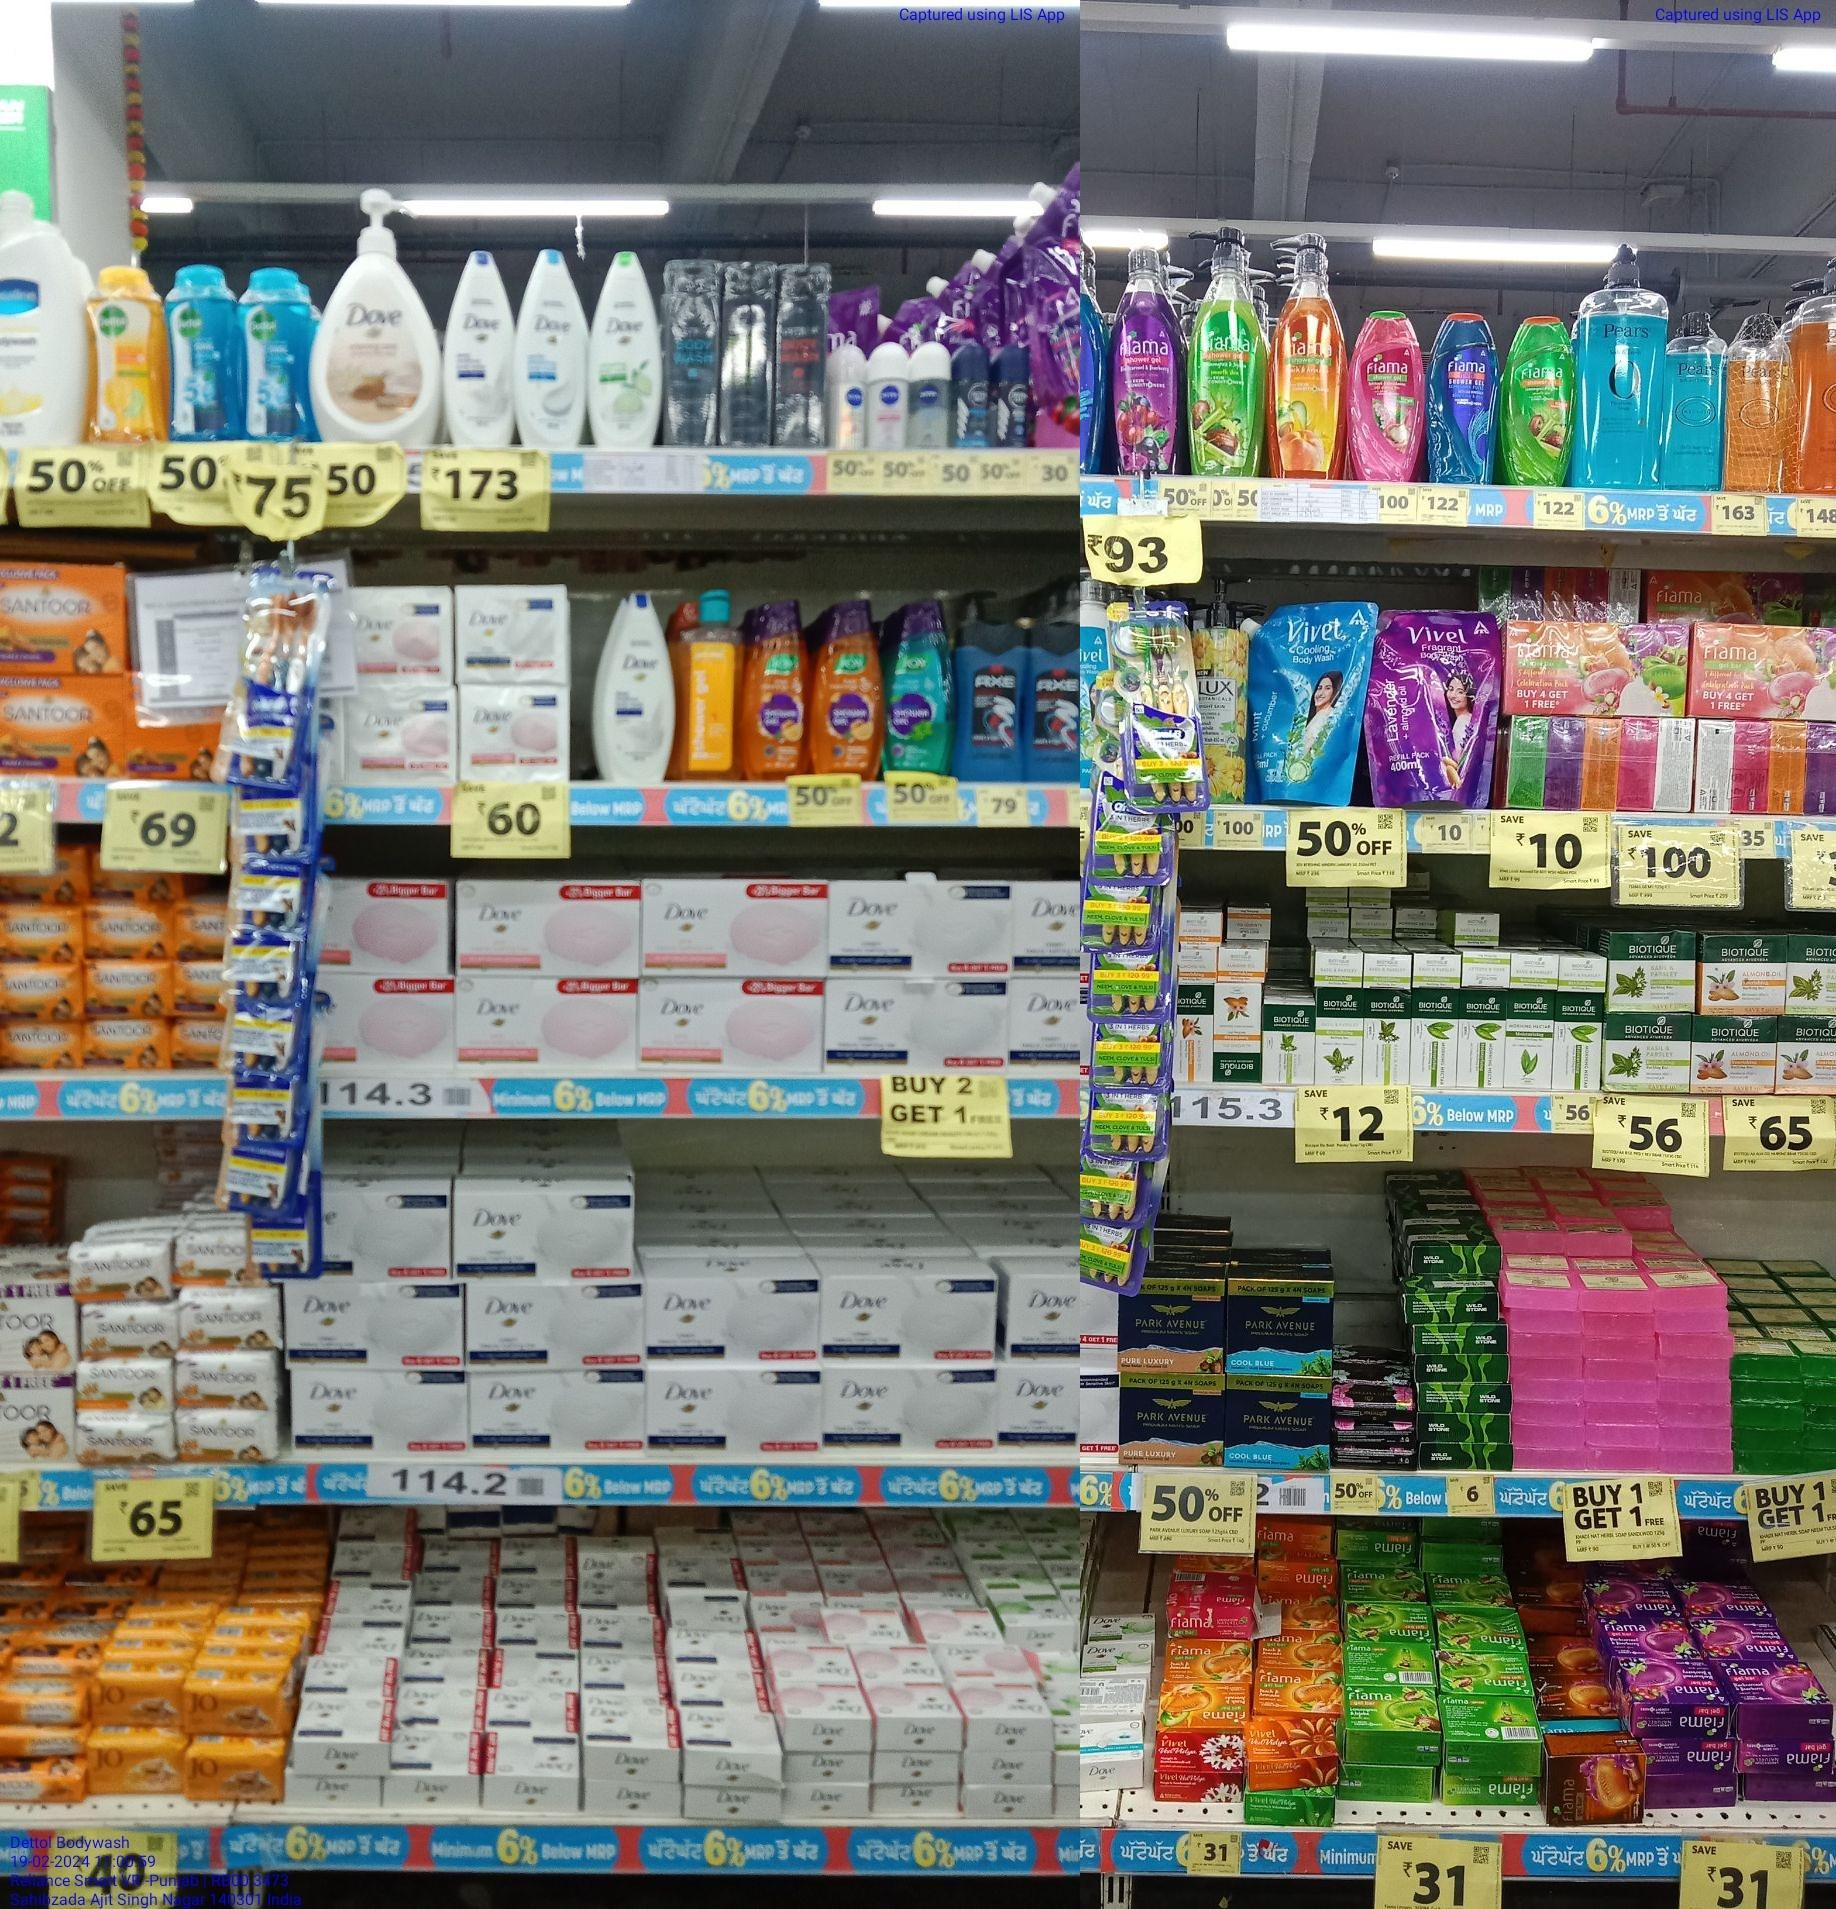Dettol_Bodywash_Cool: (165, 261, 235, 441), (239, 262, 305, 440)
Dettol_Bodywash_Refresh: (80, 262, 167, 443)
Dove_Deep_Moisture_Body_Wash_250ML: (590, 588, 672, 787), (443, 249, 517, 448)
Dove_Gentle_Exfoliating_Body_Wash_250ML: (520, 242, 586, 447)
Dove_Refreshing_Body_Wash_250ML: (588, 245, 658, 447)
Fiama_Shower_Gel_Lemongrass_and_Jojoba_250ML: (1500, 315, 1575, 487)
Fiama_Shower_Gel_Patchouli_and_Macadamia_250ML: (1350, 314, 1422, 481)
Joy_Shower_Gel_Mandarin_and_Lemongrass_250ML: (808, 595, 880, 774), (743, 600, 810, 779)
Joy_Shower_Gel_Mint_and_Eucalyptus_250ML: (881, 593, 950, 772)
Pears_Pure_Glycerin_and_Mint_Extracts_Body_Wash_250ML: (1664, 312, 1723, 487)
